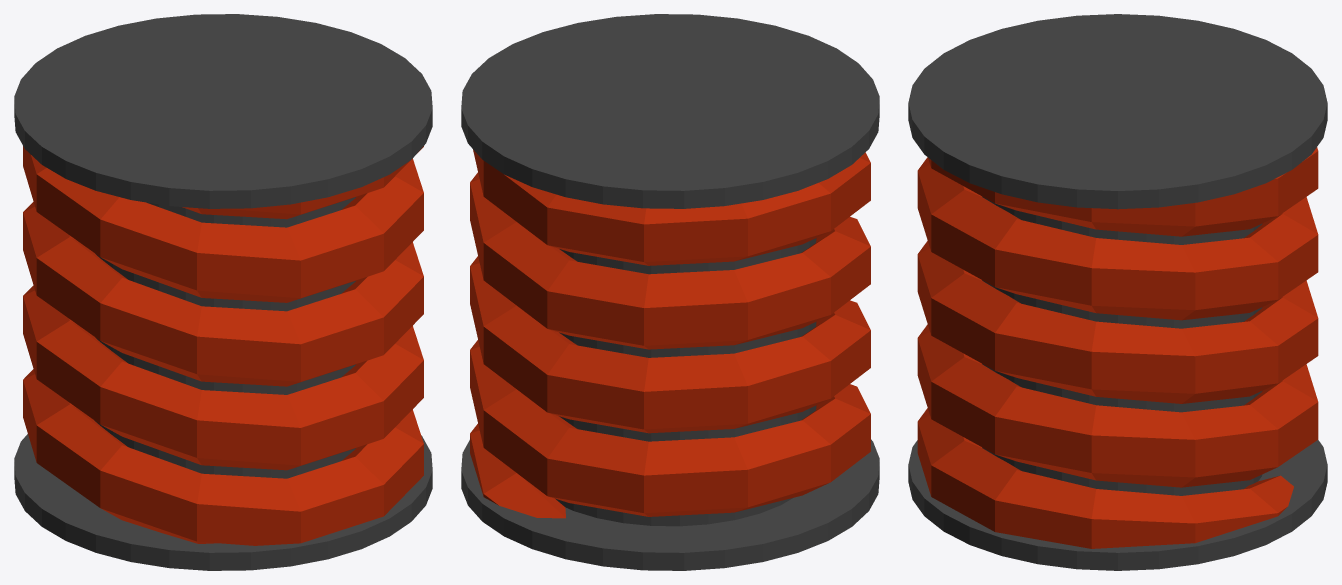
The model's file is Cable.obj.
3 views of the same model, side by side, from view 1: azimuth 30°, elevation 25°; view 2: azimuth 150°, elevation 25°; view 3: azimuth 270°, elevation 25° (orthographic).
Parts seen in each view (by area): view 1: Wire_Torus.002; view 2: Wire_Torus.002; view 3: Wire_Torus.002.
Boxes of the visible parts, <box> form: Wire_Torus.002: <box>14,14,432,570</box>; Wire_Torus.002: <box>461,14,879,570</box>; Wire_Torus.002: <box>908,14,1327,570</box>.
Size of the model in its own units: 0.2271 by 0.2271 by 0.2271.
